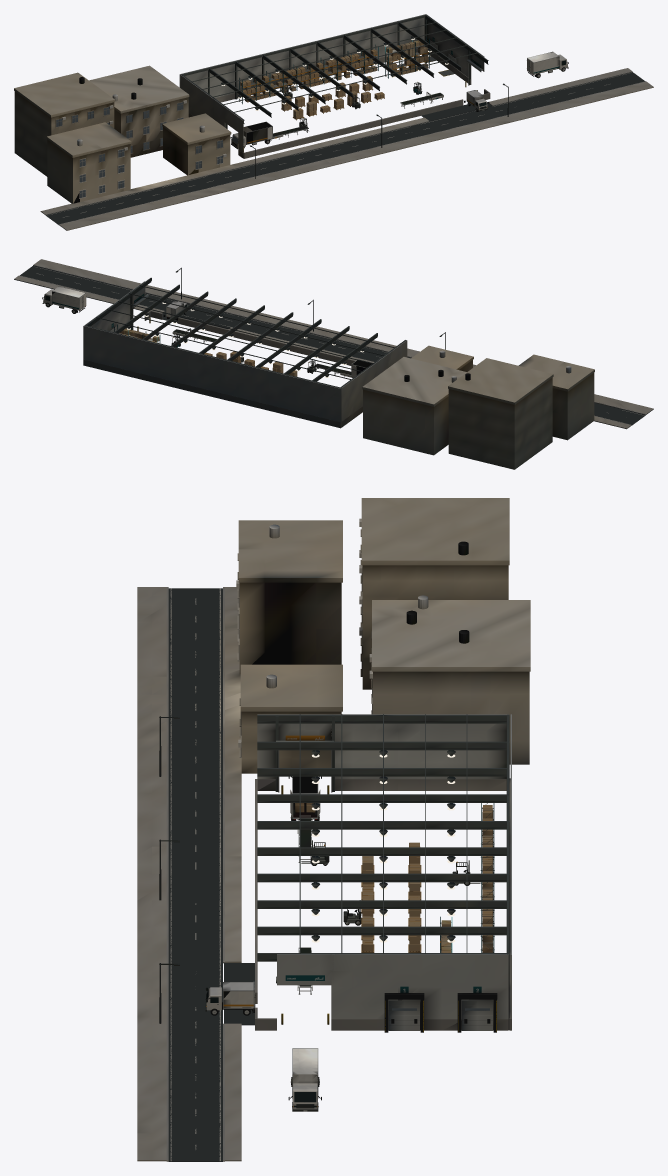
The model's file is core.glb.
3 views of the same model, one above another, from view 1: azimuth 30°, elevation 25°; view 2: azimuth 150°, elevation 25°; view 3: azimuth 270°, elevation 25° (orthographic). The views are drawn at different scales.
Parts seen in each view (by area): view 1: Core_Static_m, Truck_m, Van_m; view 2: Core_Static_m, Truck_m; view 3: Core_Static_m, Truck_m, Van_m.
Part boxes in pixels (x1,y1,x2,y2): Core_Static_m: [14, 14, 653, 230]; Truck_m: [527, 51, 568, 78]; Van_m: [466, 90, 489, 111]; Core_Static_m: [14, 259, 653, 469]; Truck_m: [42, 286, 85, 313]; Core_Static_m: [137, 498, 530, 1161]; Truck_m: [288, 1048, 321, 1111]; Van_m: [205, 981, 254, 1015].
Size of what is drawn, in the model's own units: 130 by 14.74 by 37.69.
21 materials, 17 textured.
